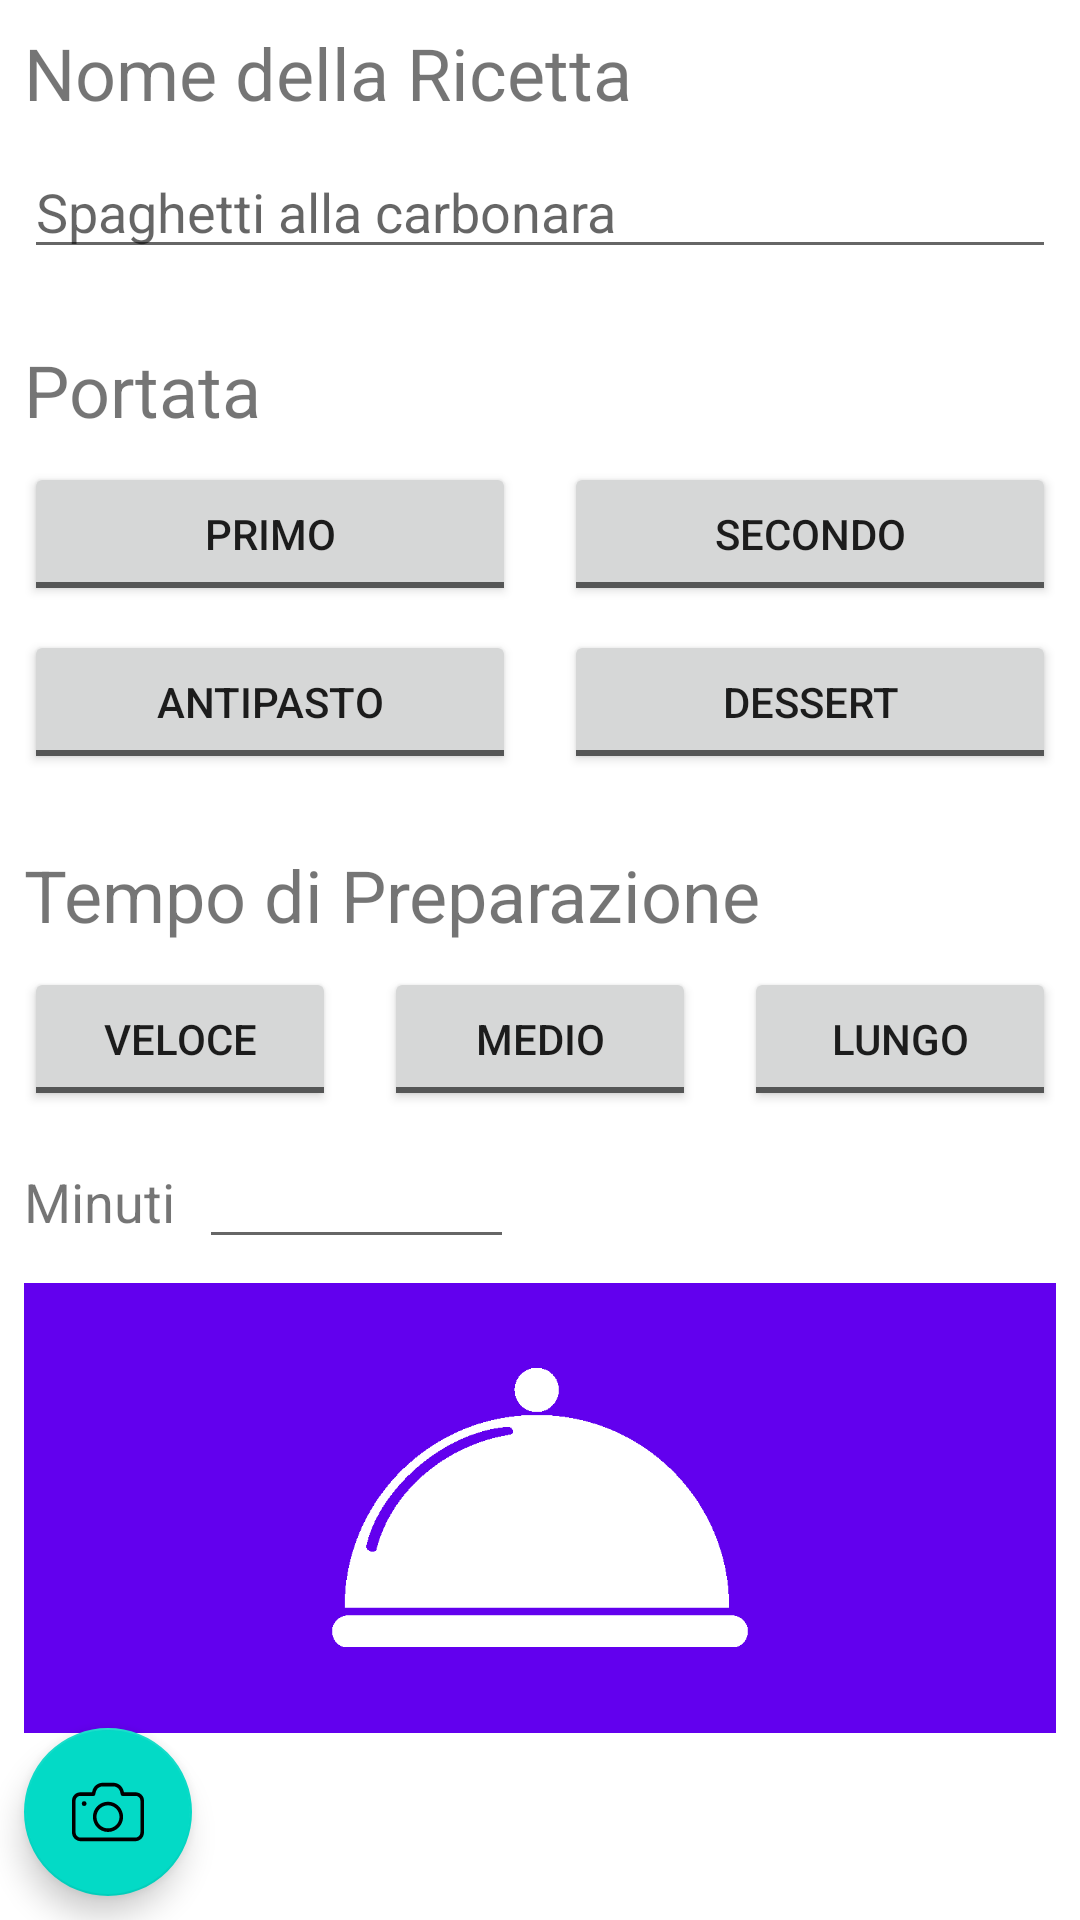

Icons on this 1080w x 1920h Android screen, each with the point to tap as [x,y]:
camera: [108,1812]
